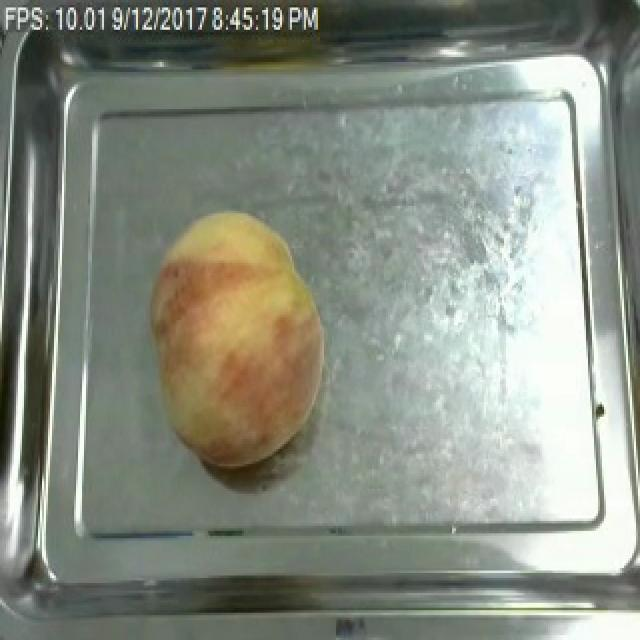Fruit: (140, 206, 334, 471)
